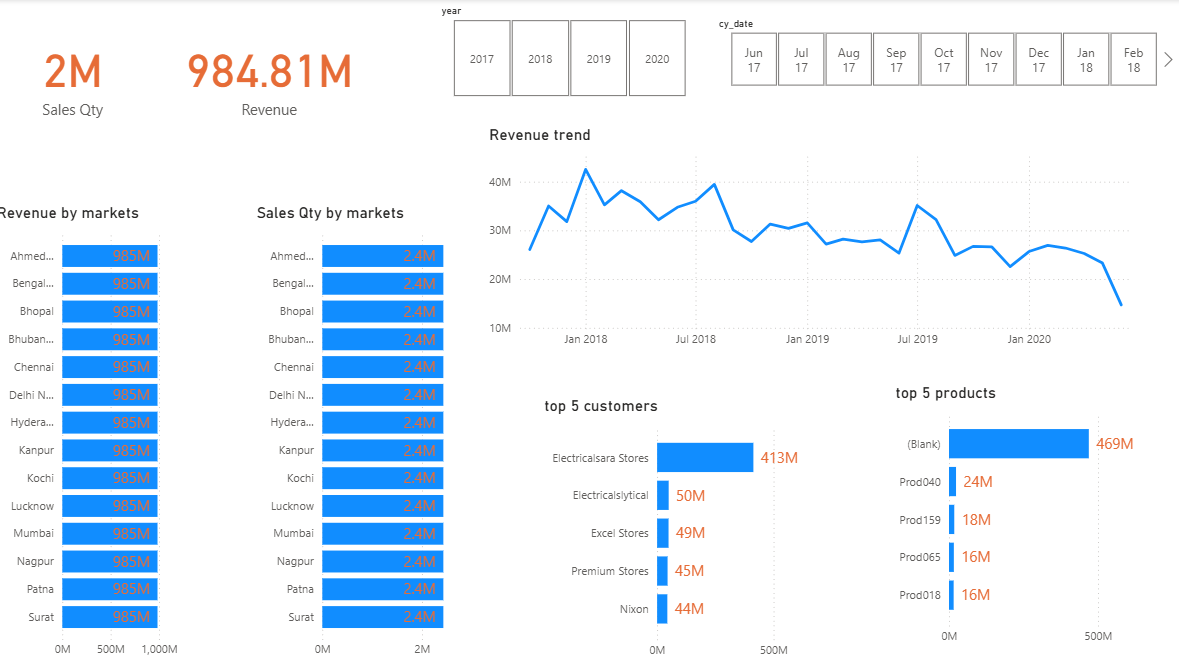

What the dashboard file says about the page in this screenshot:
{"tool":"powerbi","page":{"name":"Page 1","canvas":[1280,720],"ordinal":0},"visuals":[{"type":"card","fields":{"Values":["Basemeasures.Revenue"]},"box":[192.9,0,212.9,165.7],"z":0},{"type":"card","fields":{"Values":["Basemeasures.Sales Qty"]},"box":[0,0,174.3,165.7],"z":1000},{"type":"barChart","title":"Revenue by markets","fields":{"Y":["Basemeasures.Revenue"],"Category":["sales markets.markets_name"]},"box":[0,220,251.4,500],"z":2000},{"type":"barChart","title":"Sales Qty by markets","fields":{"Y":["Basemeasures.Sales Qty"],"Category":["sales markets.markets_name"]},"box":[280,220,251.4,500],"z":3000},{"type":"slicer","fields":{"Values":["sales date.year"]},"box":[471.4,1.4,300,110],"z":4000},{"type":"slicer","fields":{"Values":["sales date.cy_date"]},"box":[771.4,14.3,508.6,85.7],"z":5000},{"type":"barChart","title":"top 5 customers","fields":{"Y":["Basemeasures.Revenue"],"Category":["sales customers.custmer_name"]},"box":[590,428.6,314.3,291.4],"z":6000},{"type":"barChart","title":"top 5 products","fields":{"Y":["Basemeasures.Revenue"],"Category":["sales products.product_code"]},"box":[968.6,414.3,297.1,291.4],"z":7000},{"type":"lineChart","title":"Revenue trend","fields":{"Y":["Basemeasures.Revenue"],"Category":["sales date.cy_date.Variation.Date Hierarchy.Year","sales date.cy_date.Variation.Date Hierarchy.Quarter","sales date.cy_date.Variation.Date Hierarchy.Month","sales date.cy_date.Variation.Date Hierarchy.Day"]},"box":[531.4,135.7,715.7,248.6],"z":8000}]}

Visuals, with their boxes in screenshot pixels (x1, y1, x2, y2), scaled from the page's 1280x720 canvas onto the 1179x666 screenshot:
card - Basemeasures.Revenue: bbox(178, 0, 374, 153)
card - Basemeasures.Sales Qty: bbox(0, 0, 161, 153)
"Revenue by markets" barChart: bbox(0, 204, 232, 665)
"Sales Qty by markets" barChart: bbox(258, 204, 489, 665)
slicer - sales date.year: bbox(434, 1, 711, 103)
slicer - sales date.cy_date: bbox(711, 13, 1178, 92)
"top 5 customers" barChart: bbox(543, 396, 833, 665)
"top 5 products" barChart: bbox(892, 383, 1166, 653)
"Revenue trend" lineChart: bbox(489, 126, 1149, 355)
